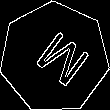M_SW: (22, 24, 88, 91)
